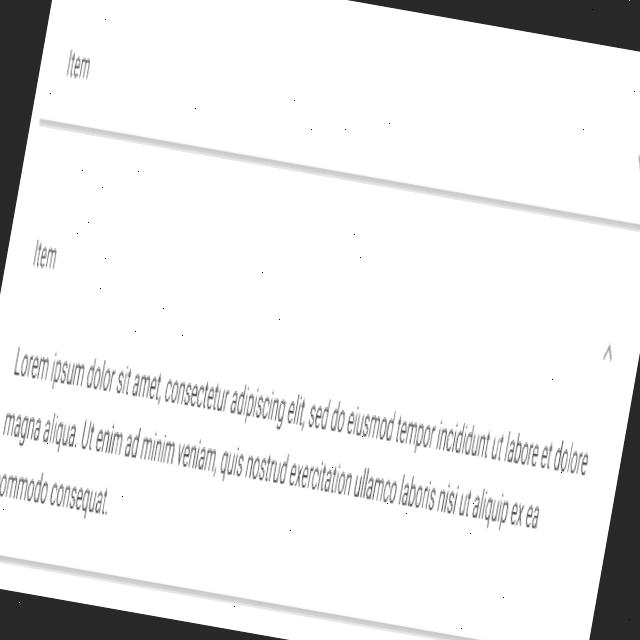VExpansionPanels: (0, 164, 640, 640), (36, 0, 640, 238)
